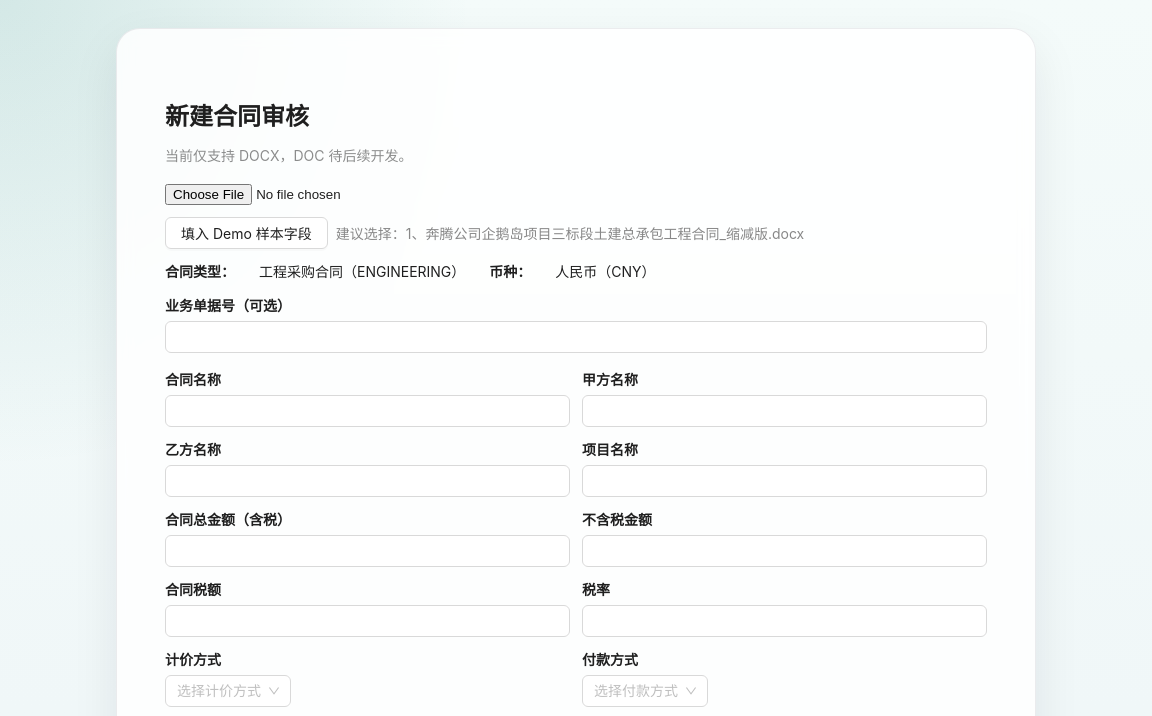
Scenario: ReviewTaskCreationPage › 3: demo preset fills fields exactly, shows file hint, does not create File
Expected: the text with test id "demo-file-hint" shows "奔腾公司企鹅岛项目三标段土建总承包工程合同_缩减版.docx", [336,225,804,242]
# Click demo preset
Click the button "填入 Demo 样本字段": point(246, 233) [165,217,328,249]
(page scrolled)
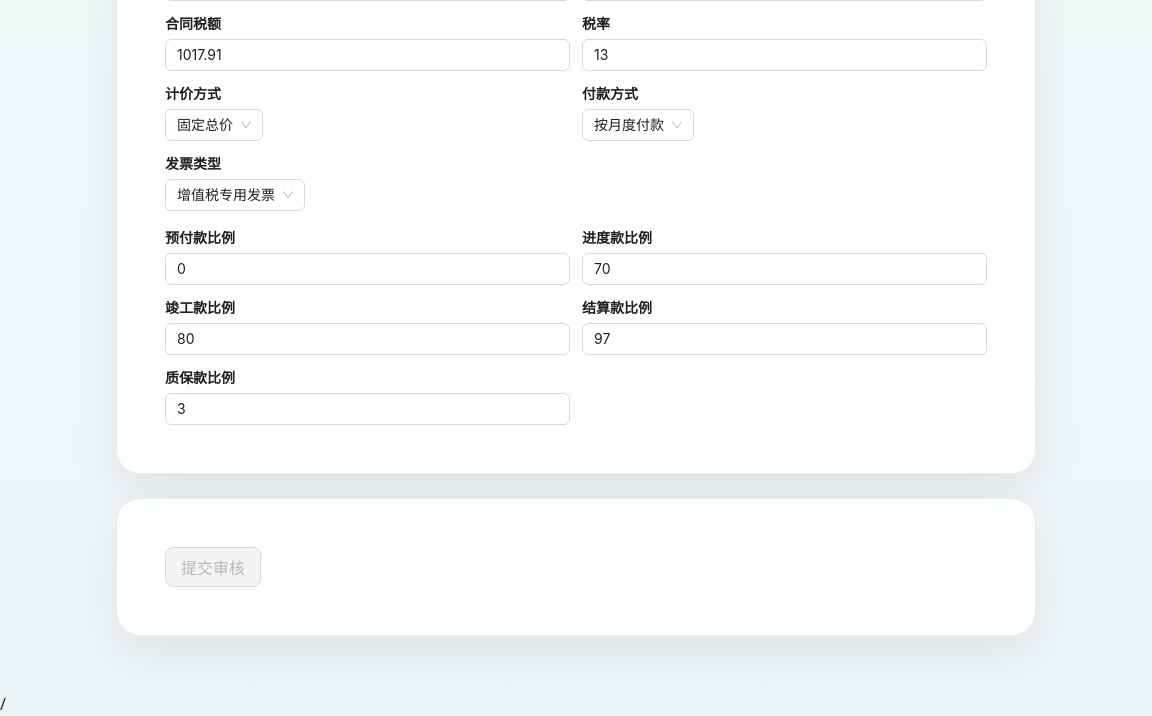
Result: the field with test id "field-taxAmount" holds "1017.91" at [165,39,570,71]
Result: the field with test id "field-taxRate" holds "13" at [582,39,987,71]
Result: the field with test id "field-prepaymentRatio" is shown at [165,253,570,285]
